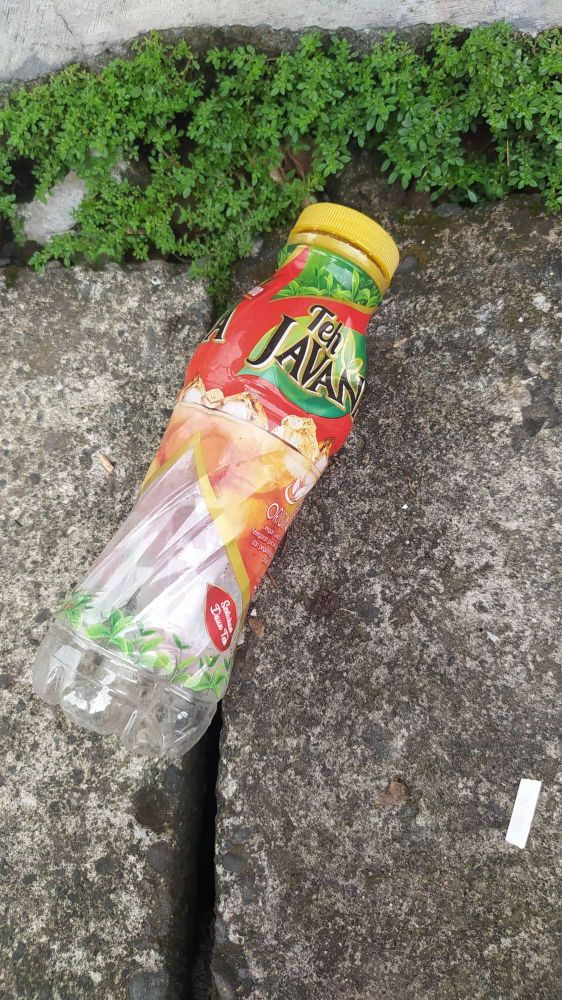botol: (26, 141, 417, 756)
